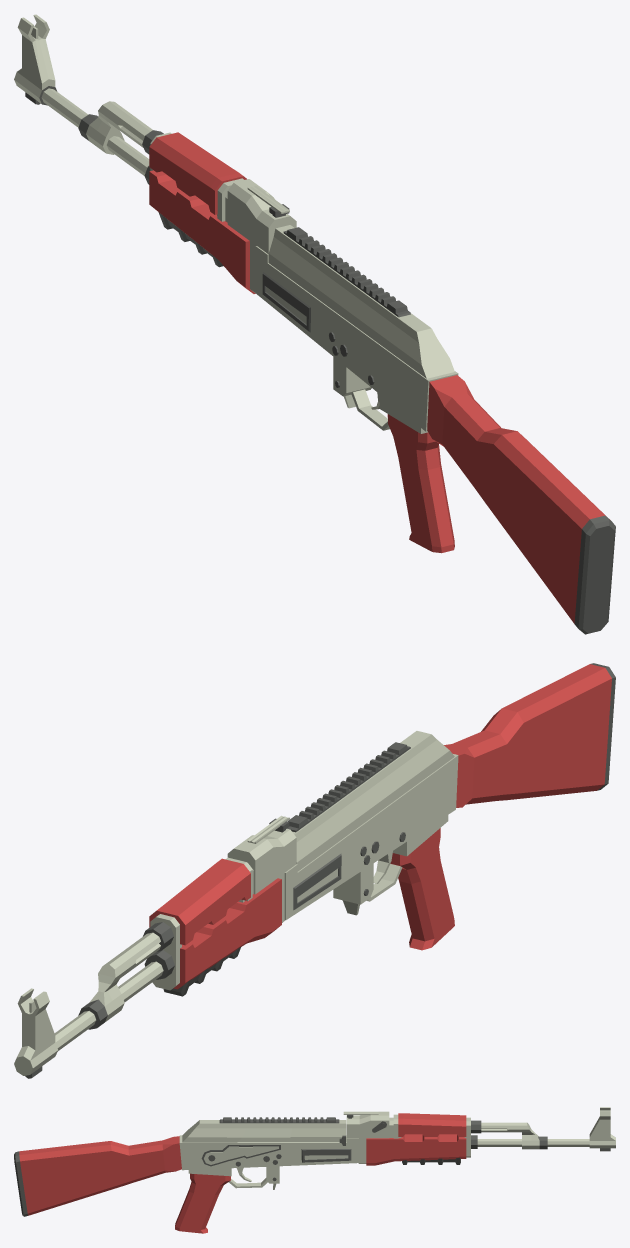
File: AssaultRifle_Green.fbx
3 views of the same model, one above another, from view 1: azimuth 30°, elevation 25°; view 2: azimuth 150°, elevation 25°; view 3: azimuth 270°, elevation 25° (orthographic). The views are drawn at different scales.
Visible parts, largest first — view 1: AssaultRifle.001; view 2: AssaultRifle.001; view 3: AssaultRifle.001, AssaultRifle_shoot/reload.004.
Boxes of the visible parts, x1=… form: AssaultRifle.001: x1=14, y1=14, x2=615, y2=634; AssaultRifle.001: x1=14, y1=663, x2=615, y2=1078; AssaultRifle.001: x1=14, y1=1107, x2=615, y2=1233; AssaultRifle_shoot/reload.004: x1=238, y1=1128, x2=346, y2=1145.
Size of the model in its own units: 31.03 by 185 by 828.
